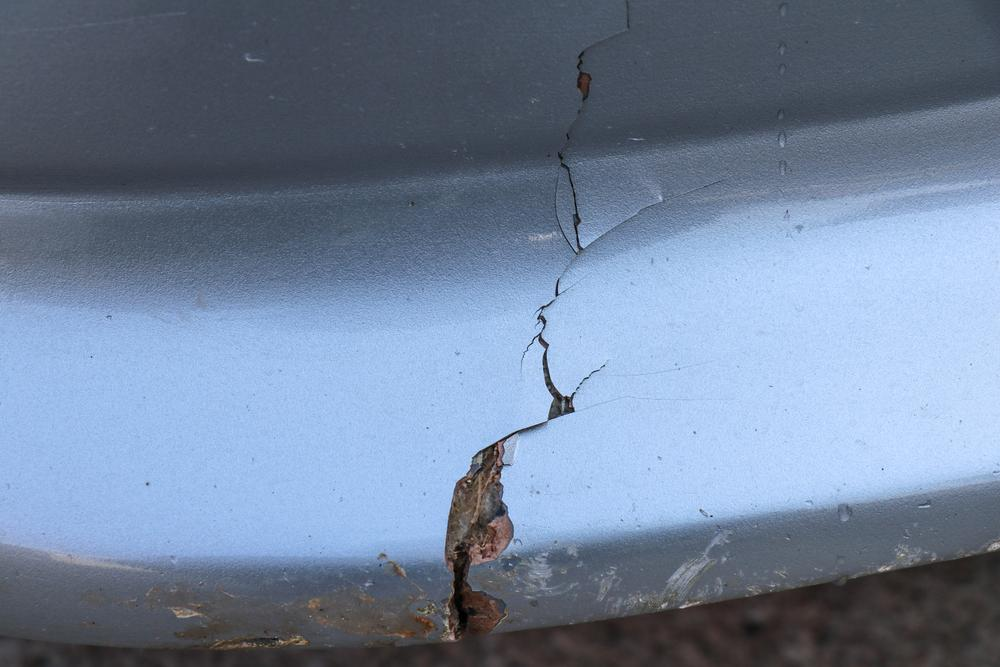crack: (444, 0, 723, 642)
scratch: (503, 515, 960, 607), (111, 550, 445, 656)
